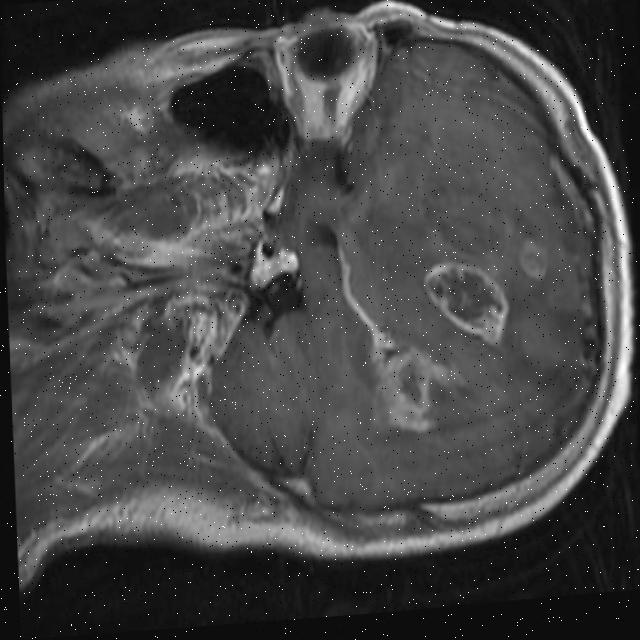Glioma: (364, 327, 446, 438), (422, 255, 512, 354), (515, 236, 550, 282)
Pituitary: (247, 239, 301, 292)
